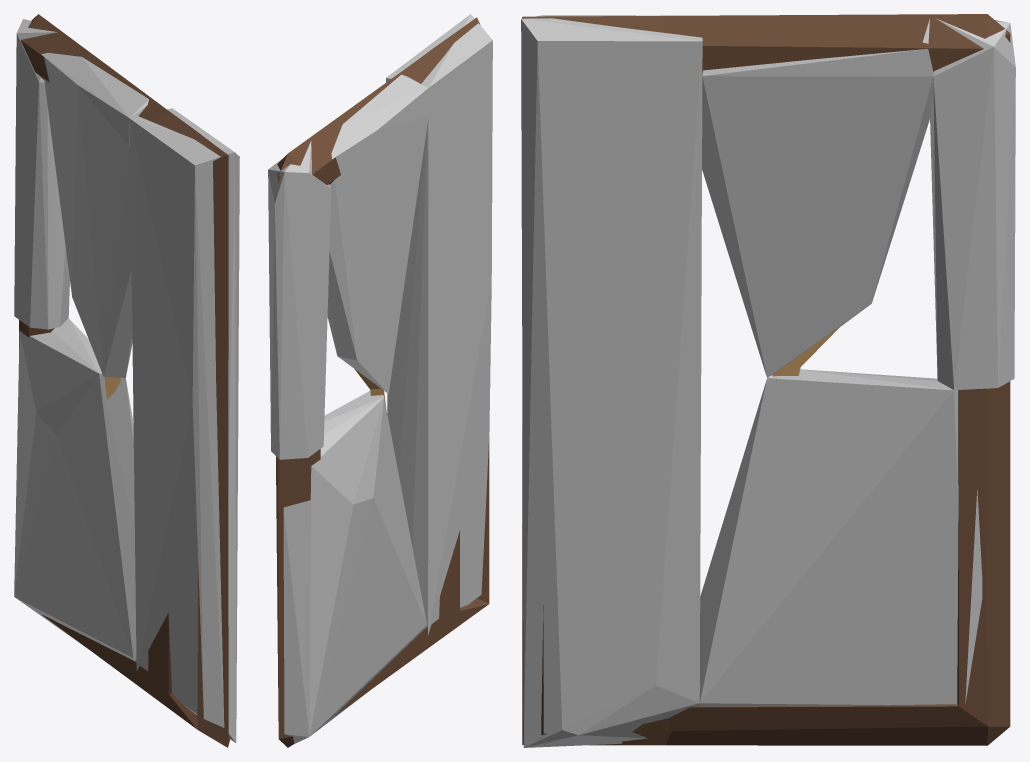
The model's file is SM_Prop_Cabinet_01_Door_r_02.fbx.
3 views of the same model, side by side, from view 1: azimuth 30°, elevation 25°; view 2: azimuth 150°, elevation 25°; view 3: azimuth 270°, elevation 25° (orthographic). The views are drawn at different scales.
Visible parts, largest first — view 1: SM_Prop_Cabinet_01_Door_r_02_ConvexHulls, SM_Prop_Cabinet_01_Door_r_02; view 2: SM_Prop_Cabinet_01_Door_r_02_ConvexHulls, SM_Prop_Cabinet_01_Door_r_02; view 3: SM_Prop_Cabinet_01_Door_r_02_ConvexHulls, SM_Prop_Cabinet_01_Door_r_02.
Part boxes in pixels (x1,y1,x2,y2): SM_Prop_Cabinet_01_Door_r_02_ConvexHulls: [14, 19, 239, 742]; SM_Prop_Cabinet_01_Door_r_02: [19, 14, 230, 747]; SM_Prop_Cabinet_01_Door_r_02_ConvexHulls: [268, 14, 492, 743]; SM_Prop_Cabinet_01_Door_r_02: [276, 17, 489, 747]; SM_Prop_Cabinet_01_Door_r_02_ConvexHulls: [521, 15, 1015, 747]; SM_Prop_Cabinet_01_Door_r_02: [522, 14, 1010, 745].
Size of the model in its own units: 6.86 by 43.95 by 71.73.
Materials: 2 (1 with a texture image).
